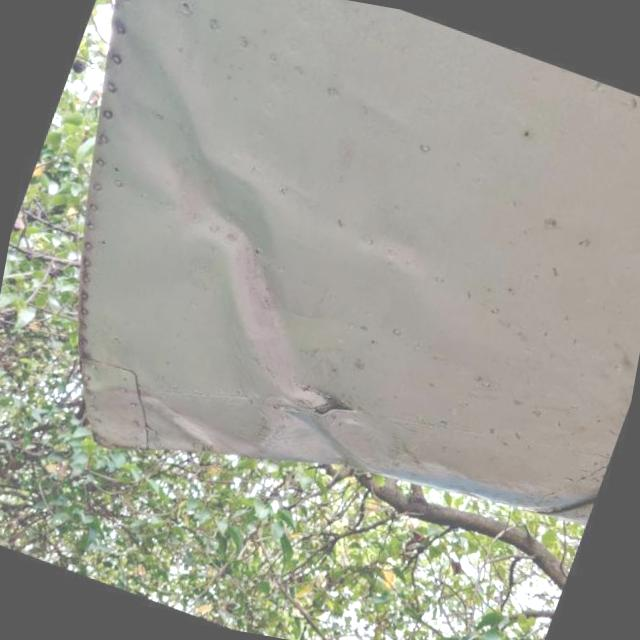dent: (52, 0, 371, 409), (96, 373, 307, 471), (306, 402, 466, 486)
